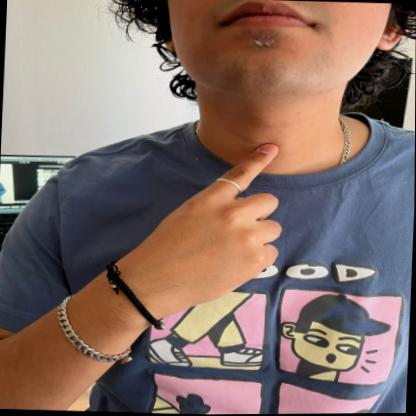Q: (126, 124, 301, 313)
